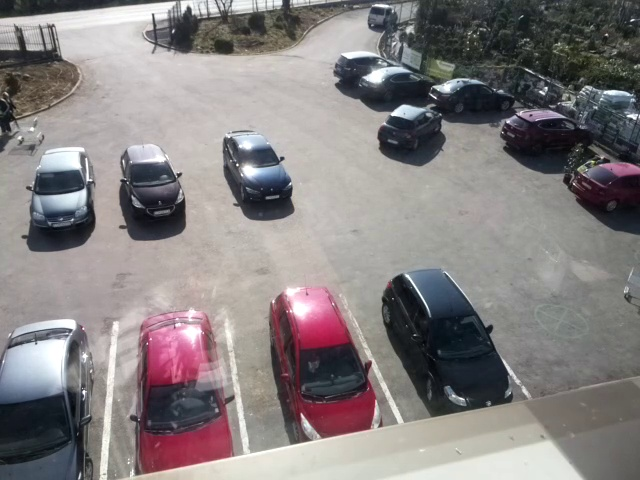car: (381, 269, 514, 414), (268, 285, 382, 446), (137, 309, 236, 478), (1, 320, 93, 478), (29, 147, 94, 233), (122, 141, 187, 224), (222, 128, 292, 204), (501, 109, 596, 155), (431, 74, 518, 119), (570, 161, 640, 211), (376, 102, 443, 154), (358, 67, 438, 104), (333, 50, 403, 85), (366, 2, 400, 31)
